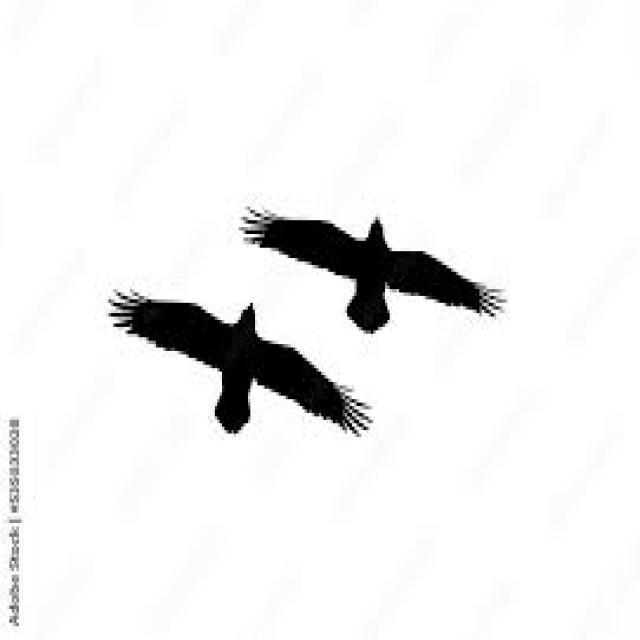bird: (76, 246, 434, 590), (220, 90, 558, 348)
